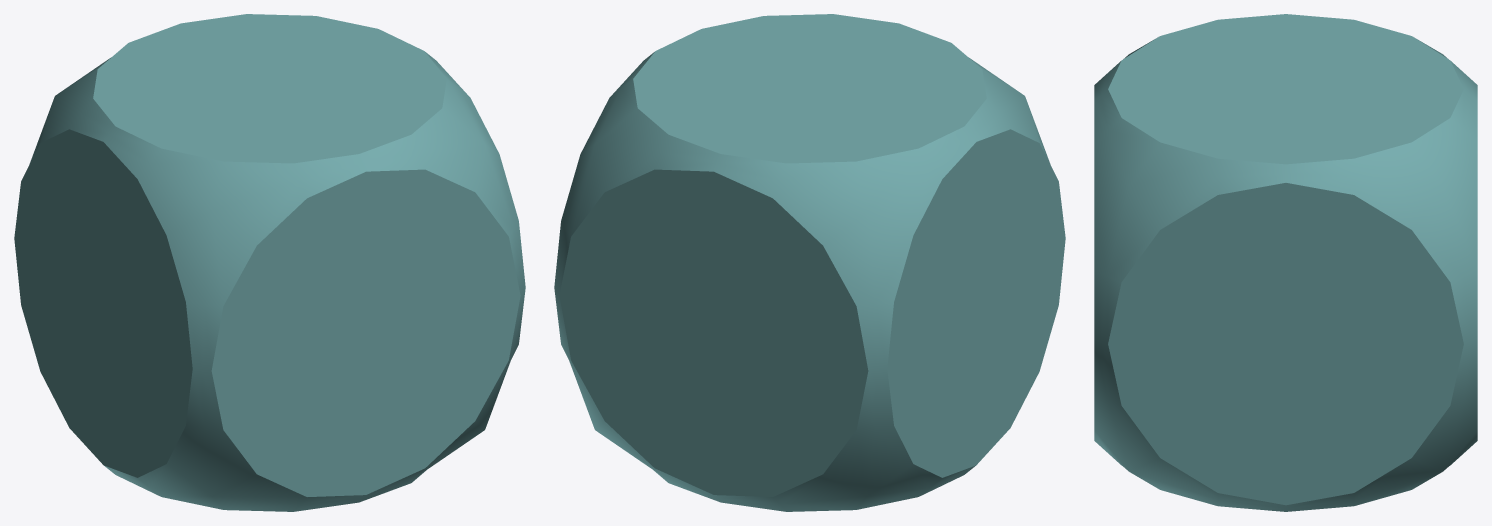
The model's file is Dice.fbx.
The picture shows the model from 3 angles, left to right: view 1: azimuth 30°, elevation 25°; view 2: azimuth 150°, elevation 25°; view 3: azimuth 270°, elevation 25°; orthographic projection.
Parts seen in each view (by area): view 1: Dice; view 2: Dice; view 3: Dice.
Boxes of the visible parts, x1=… form: Dice: x1=14, y1=14, x2=525, y2=511; Dice: x1=554, y1=14, x2=1065, y2=511; Dice: x1=1094, y1=14, x2=1477, y2=511.
Size of the model in its own units: 0.178 by 0.178 by 0.178.
